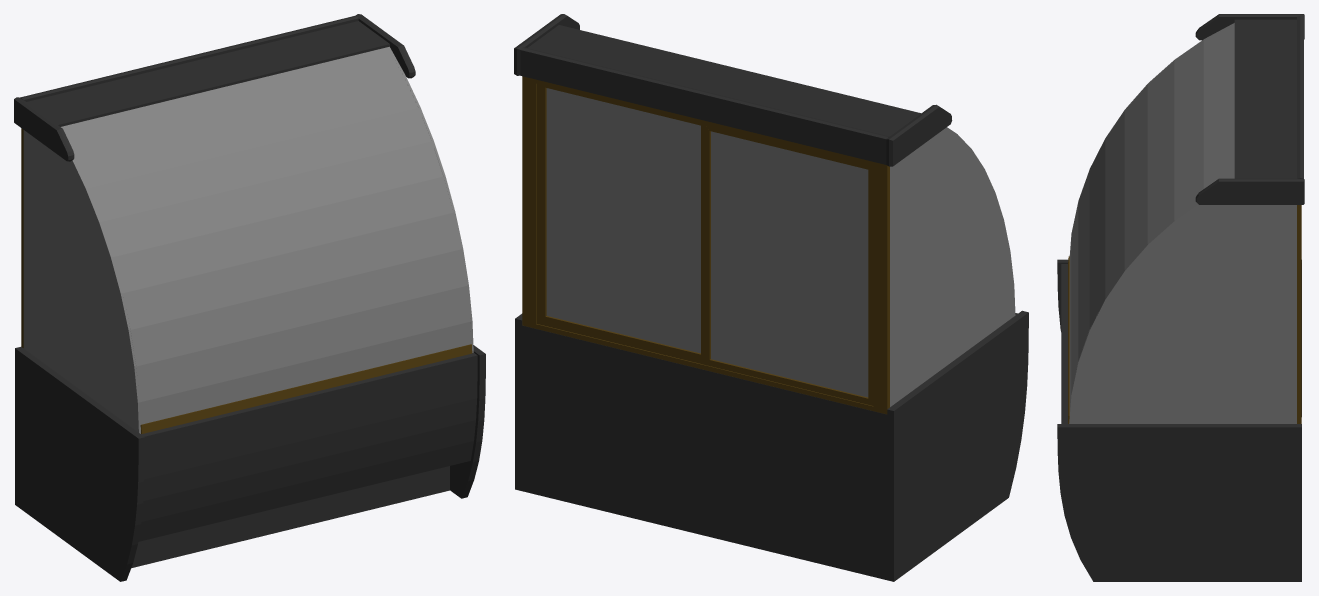
File: stend.FBX
The picture shows the model from 3 angles, left to right: view 1: azimuth 30°, elevation 25°; view 2: azimuth 150°, elevation 25°; view 3: azimuth 270°, elevation 25°; orthographic projection. The views are drawn at different scales.
Visible parts, largest first — view 1: pastry dis; view 2: pastry dis; view 3: pastry dis.
Part boxes in pixels (x1,y1,x2,y2): pastry dis: [14, 14, 485, 581]; pastry dis: [514, 14, 1028, 581]; pastry dis: [1057, 14, 1304, 581].
Bounding box in the file's own units: 418 × 466 × 260.
